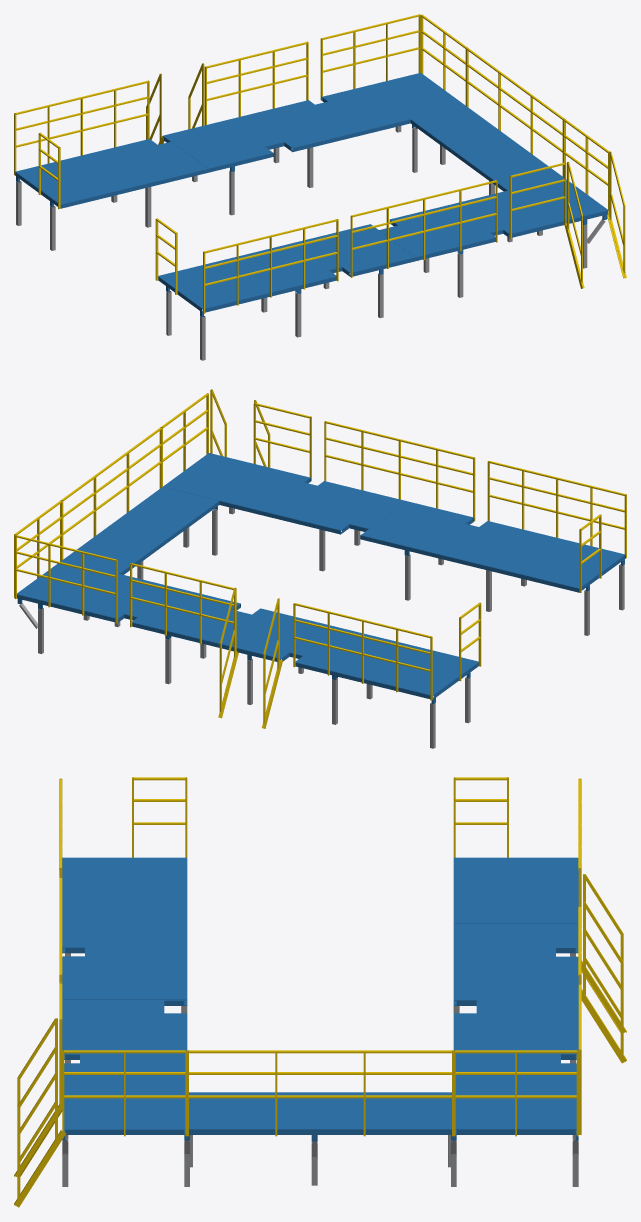
File: Phase49 (2).fbx
3 renders of one model, top to bottom at view 1: azimuth 30°, elevation 25°; view 2: azimuth 150°, elevation 25°; view 3: azimuth 270°, elevation 25°, orthographic. The views are drawn at different scales.
Parts seen in each view (by area): view 1: RAL 5015 (×6), 104:104:727014, 103:103:728236, 98:98:735474, 62:62:721963, 60:60:725807, 61:61:724625, 57:57:742278, 102:102:729429, 59:59:738808, 58:58:739987, 100:100:731869 (+3 smaller); view 2: RAL 5015 (×6), 98:98:735474, 57:57:742278, 99:99:733063, 104:104:727014, 58:58:739987, 59:59:738808, 103:103:728236, 100:100:731869, 62:62:721963, 60:60:725807, 101:101:730696 (+3 smaller); view 3: RAL 5015 (×6), 57:57:742278, 62:62:721963, 103:103:728236, 58:58:739987, 99:99:733063, 61:61:724625, 60:60:725807, 104:104:727014, 98:98:735474, CPS_КаркасНесущий_Швеллер_ПолкаПараллельная_ГОСТ 8240-97:Бал (×4), 59:59:738808 (+4 smaller).
Boxes of the visible parts, left/top/right/bottom form: RAL 5015 (×6): left=16, top=120, right=414, bottom=308; 104:104:727014: left=323, top=84, right=417, bottom=129; 103:103:728236: left=373, top=73, right=464, bottom=117; 98:98:735474: left=465, top=188, right=561, bottom=233; 62:62:721963: left=114, top=139, right=206, bottom=180; 60:60:725807: left=275, top=100, right=366, bottom=141; 61:61:724625: left=228, top=108, right=319, bottom=147; 57:57:742278: left=256, top=240, right=341, bottom=285; 102:102:729429: left=411, top=106, right=497, bottom=142; 59:59:738808: left=419, top=201, right=502, bottom=245; 58:58:739987: left=379, top=212, right=463, bottom=256; 100:100:731869: left=475, top=153, right=562, bottom=190; RAL 5015 (×6): left=215, top=501, right=625, bottom=694; 98:98:735474: left=211, top=464, right=309, bottom=511; 57:57:742278: left=428, top=521, right=524, bottom=563; 99:99:733063: left=163, top=453, right=256, bottom=498; 104:104:727014: left=65, top=572, right=162, bottom=618; 58:58:739987: left=312, top=489, right=406, bottom=529; 59:59:738808: left=264, top=481, right=357, bottom=522; 103:103:728236: left=17, top=560, right=110, bottom=605; 100:100:731869: left=129, top=487, right=218, bottom=525; 62:62:721963: left=290, top=625, right=377, bottom=670; 60:60:725807: left=124, top=585, right=211, bottom=629; 101:101:730696: left=97, top=512, right=184, bottom=549; RAL 5015 (×6): left=63, top=857, right=577, bottom=1000; 57:57:742278: left=63, top=923, right=186, bottom=956; 62:62:721963: left=454, top=923, right=577, bottom=956; 103:103:728236: left=455, top=1098, right=576, bottom=1129; 58:58:739987: left=63, top=1000, right=186, bottom=1032; 99:99:733063: left=64, top=1098, right=185, bottom=1128; 61:61:724625: left=454, top=1000, right=577, bottom=1031; 60:60:725807: left=454, top=1031, right=577, bottom=1063; 104:104:727014: left=455, top=1063, right=576, bottom=1095; 98:98:735474: left=64, top=1063, right=185, bottom=1095; CPS_КаркасНесущий_Швеллер_ПолкаПараллельная_ГОСТ 8240-97:Бал (×4): left=14, top=1129, right=575, bottom=1207; 59:59:738808: left=63, top=1032, right=186, bottom=1063.
Bounding box in the file's own units: 8840 × 8348 × 2405.
